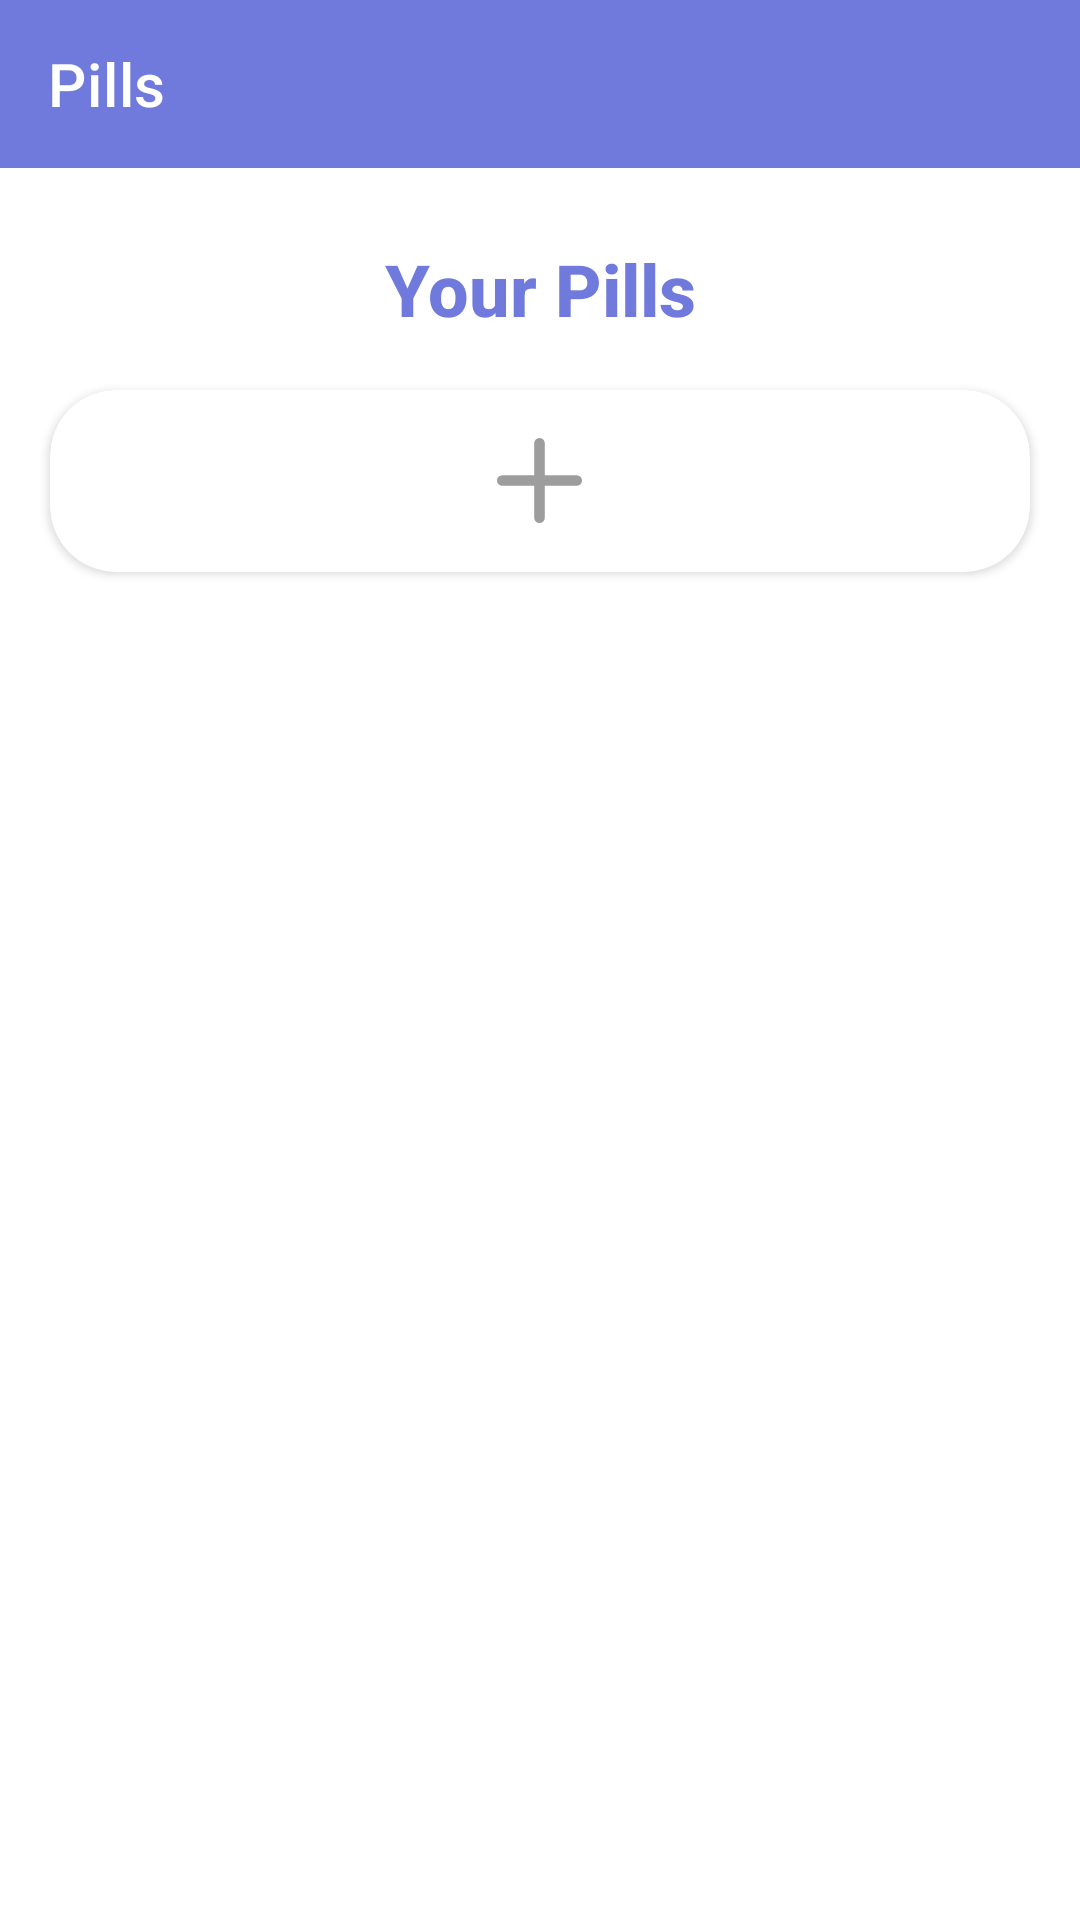

Icon click points for this 1080x1920 phone screenshot, format (x=x, y=y):
ionic add: (x=539, y=480)
